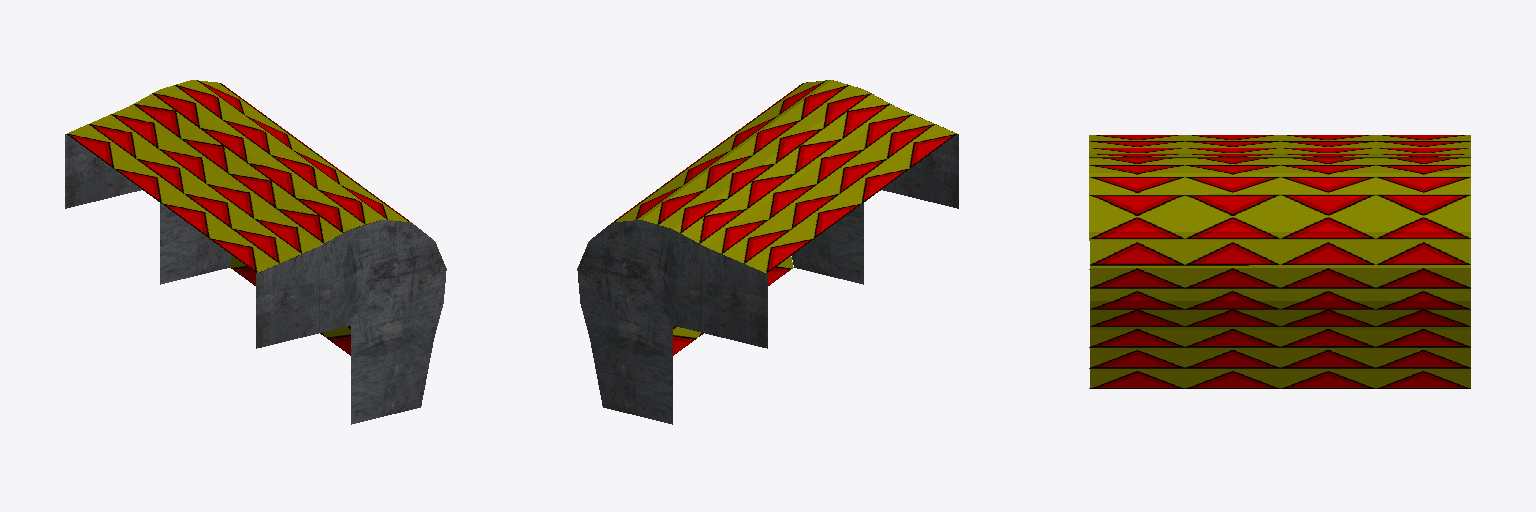
3 views of the same model, side by side, from view 1: azimuth 30°, elevation 25°; view 2: azimuth 150°, elevation 25°; view 3: azimuth 270°, elevation 25° (orthographic).
Parts seen in each view (by area): view 1: pCylinder35; view 2: pCylinder35; view 3: pCylinder35.
Part boxes in pixels (left/top/right/bottom): pCylinder35: left=65, top=80, right=446, bottom=424; pCylinder35: left=577, top=80, right=958, bottom=424; pCylinder35: left=1089, top=135, right=1470, bottom=388.
Bounding box in the file's own units: 14.55 × 14.41 × 25.32.
Materials: 1 (1 with a texture image).